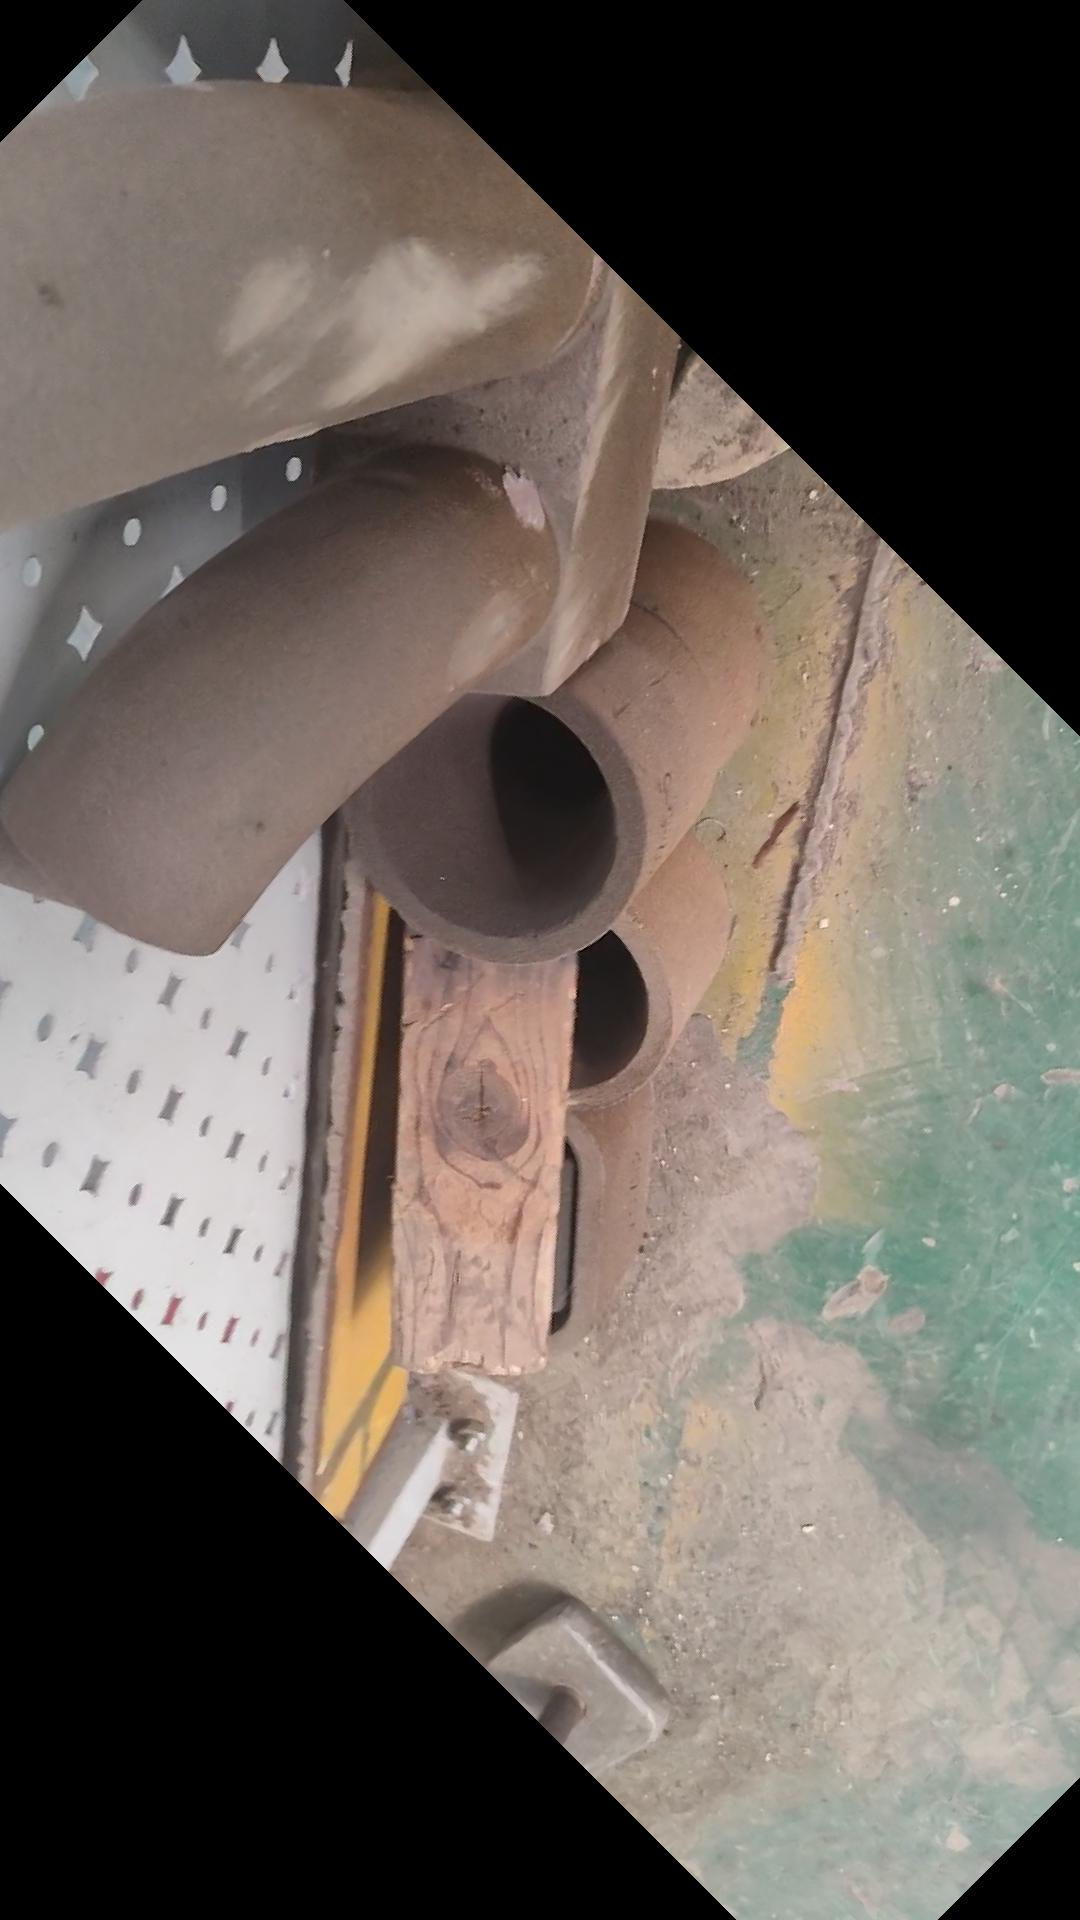pouring hole: (349, 684, 618, 938), (448, 924, 649, 1092)
